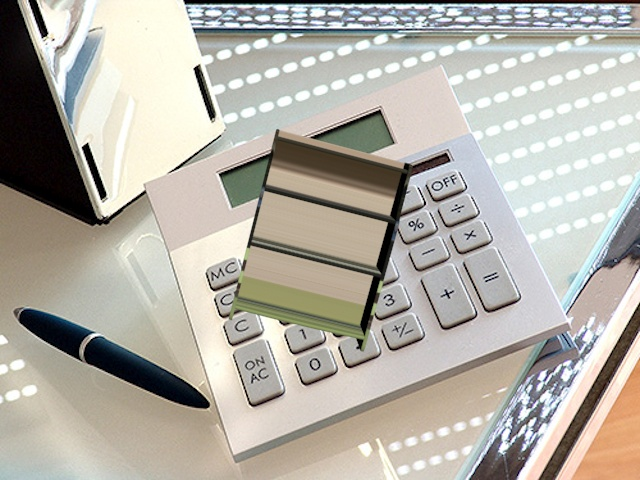bookcase: (224, 128, 417, 353)
